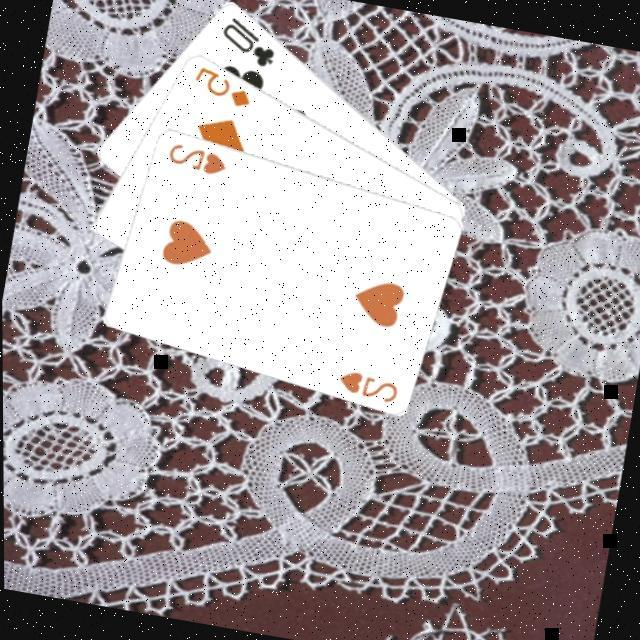10C: (211, 10, 281, 70)
2H: (160, 136, 230, 178), (330, 364, 400, 406)
5D: (185, 59, 256, 110)
